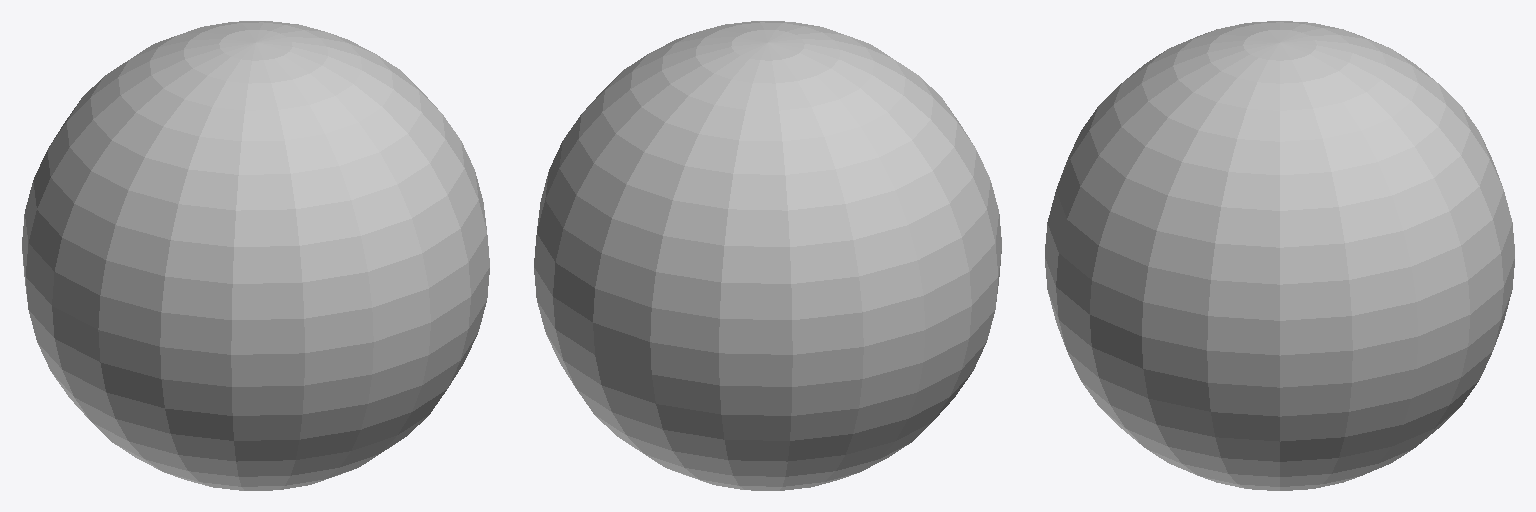
The model's file is SPEHERE.obj.
The picture shows the model from 3 angles: view 1: azimuth 30°, elevation 25°; view 2: azimuth 150°, elevation 25°; view 3: azimuth 270°, elevation 25°; orthographic projection.
Parts seen in each view (by area): view 1: pSphere1; view 2: pSphere1; view 3: pSphere1.
Boxes of the visible parts, x1,y1,x2,y2 form: pSphere1: [22, 21, 489, 490]; pSphere1: [534, 21, 1001, 490]; pSphere1: [1045, 21, 1514, 490].
Bounding box in the file's own units: 0.6523 × 0.6523 × 0.6523.